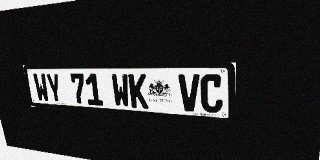1: (84, 74, 103, 106)
7: (69, 73, 88, 105)
C: (200, 74, 223, 113)
K: (128, 74, 148, 109)
V: (178, 74, 200, 112)
W: (111, 74, 131, 107), (32, 73, 50, 102)
Y: (45, 73, 63, 103)
